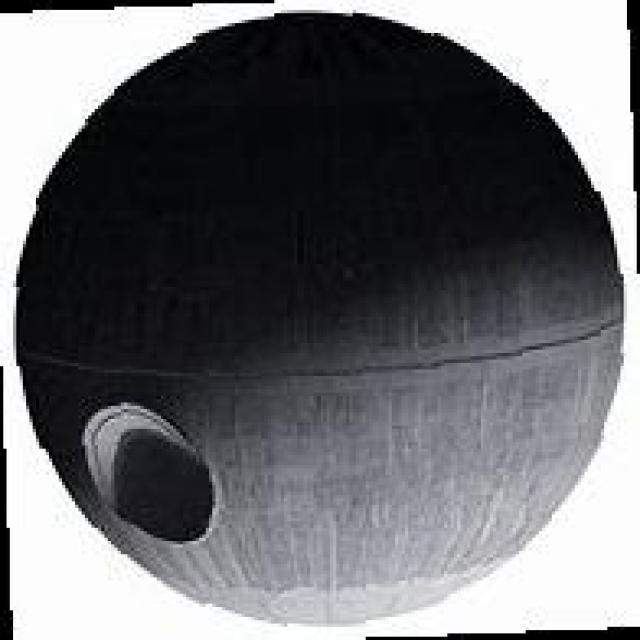Death Star: (30, 15, 612, 621)
